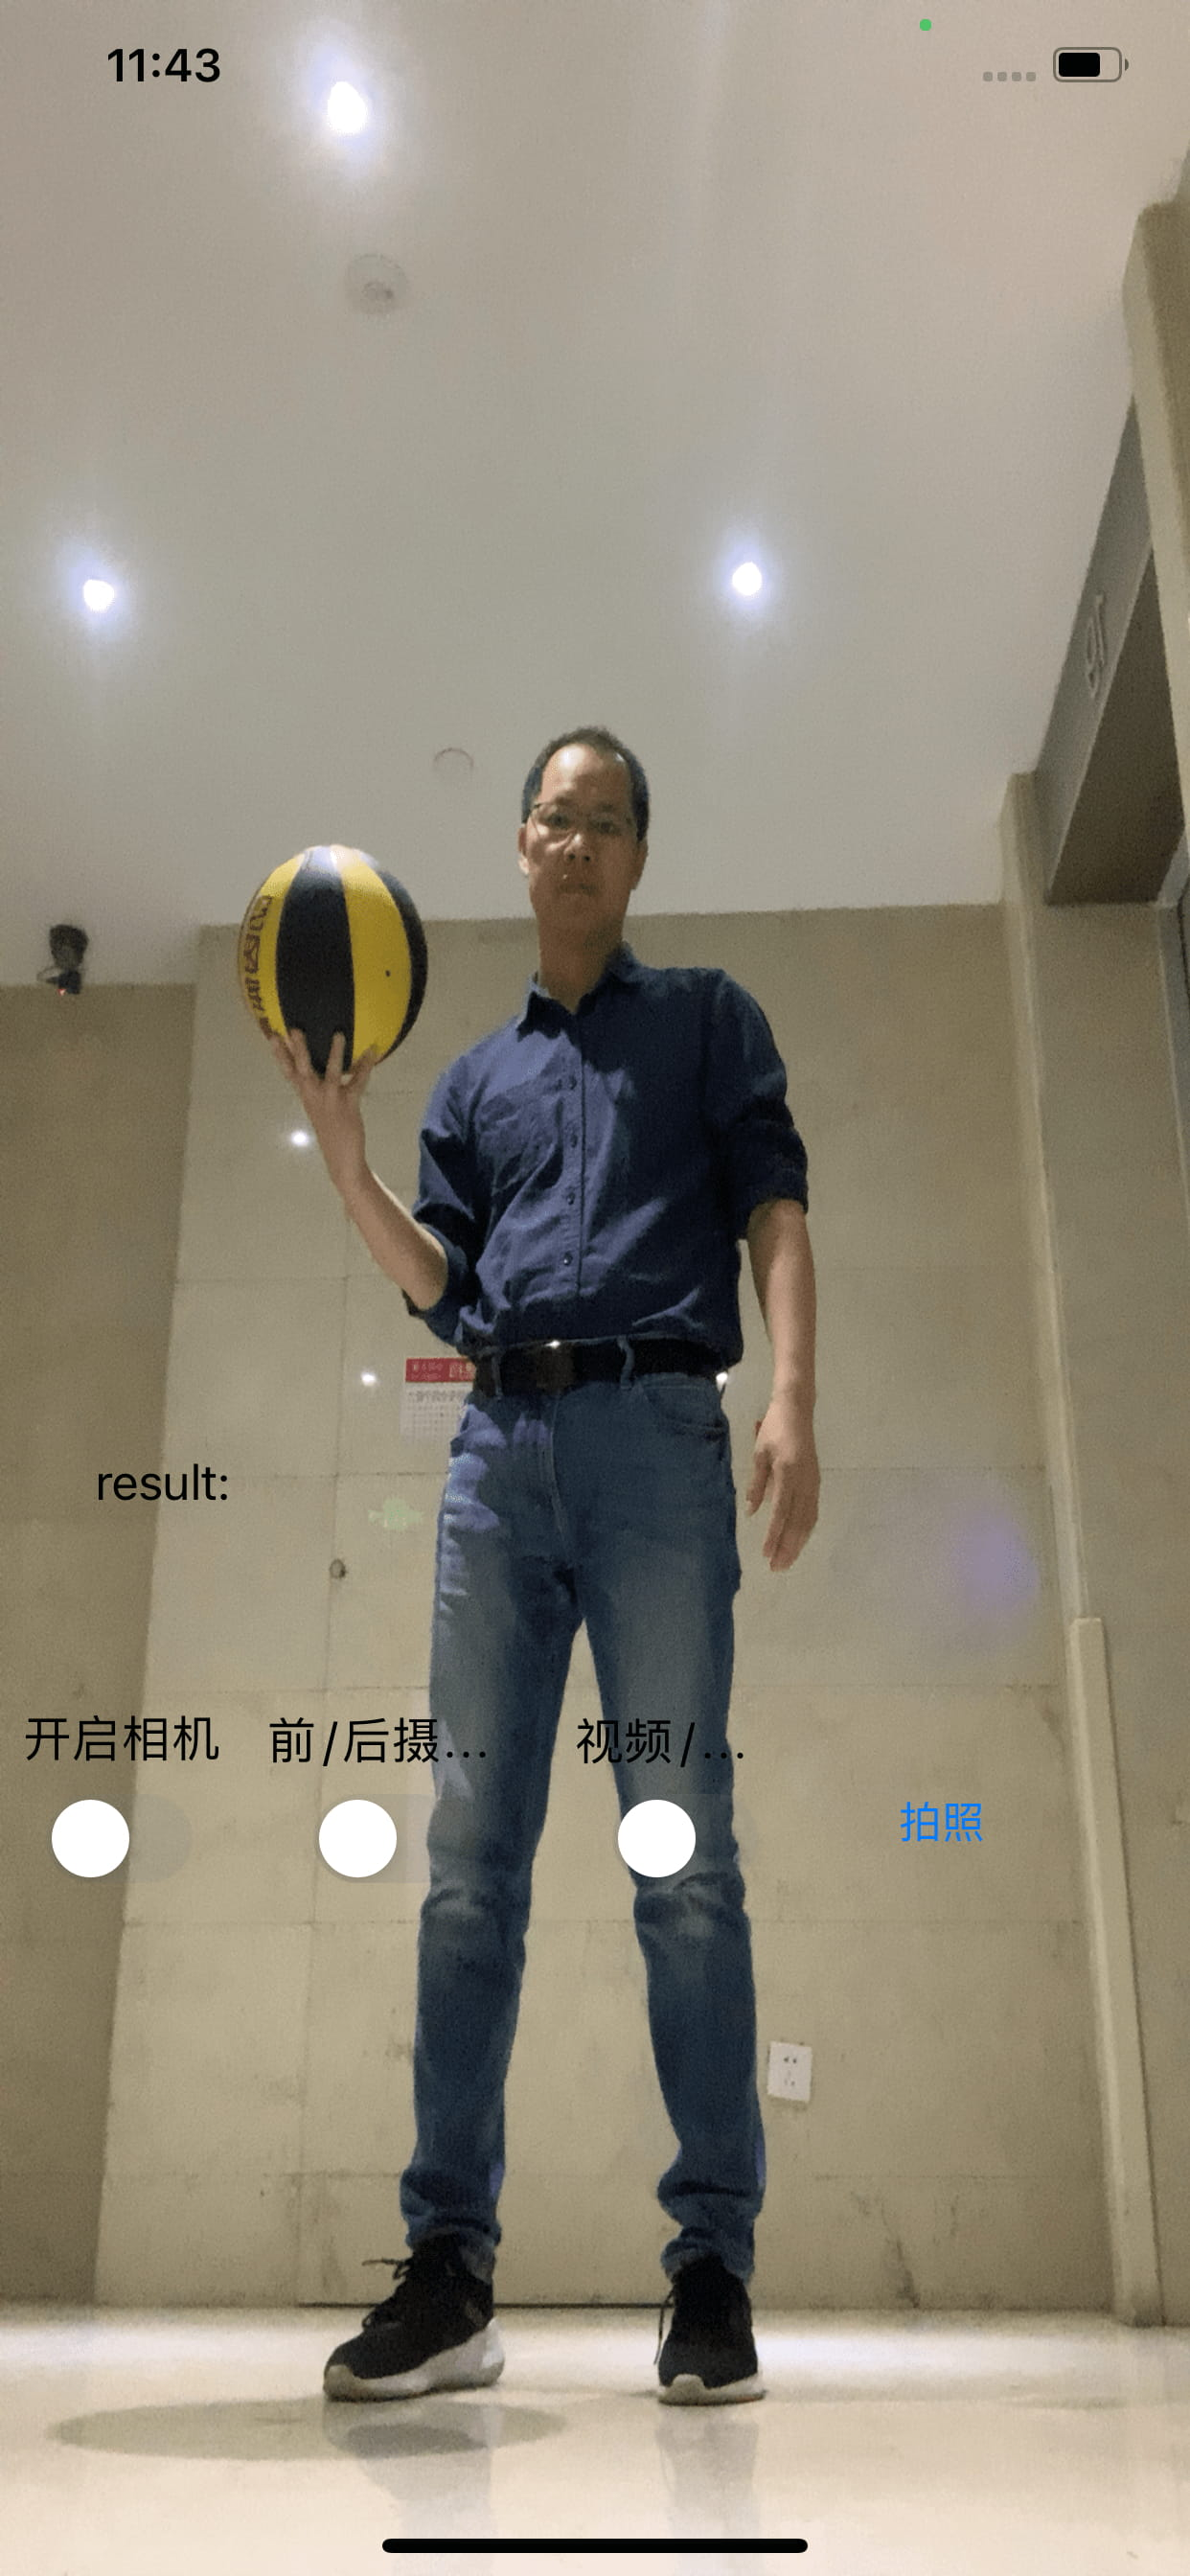ball: (242, 838, 417, 1076)
